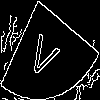V: (25, 25, 64, 81)
